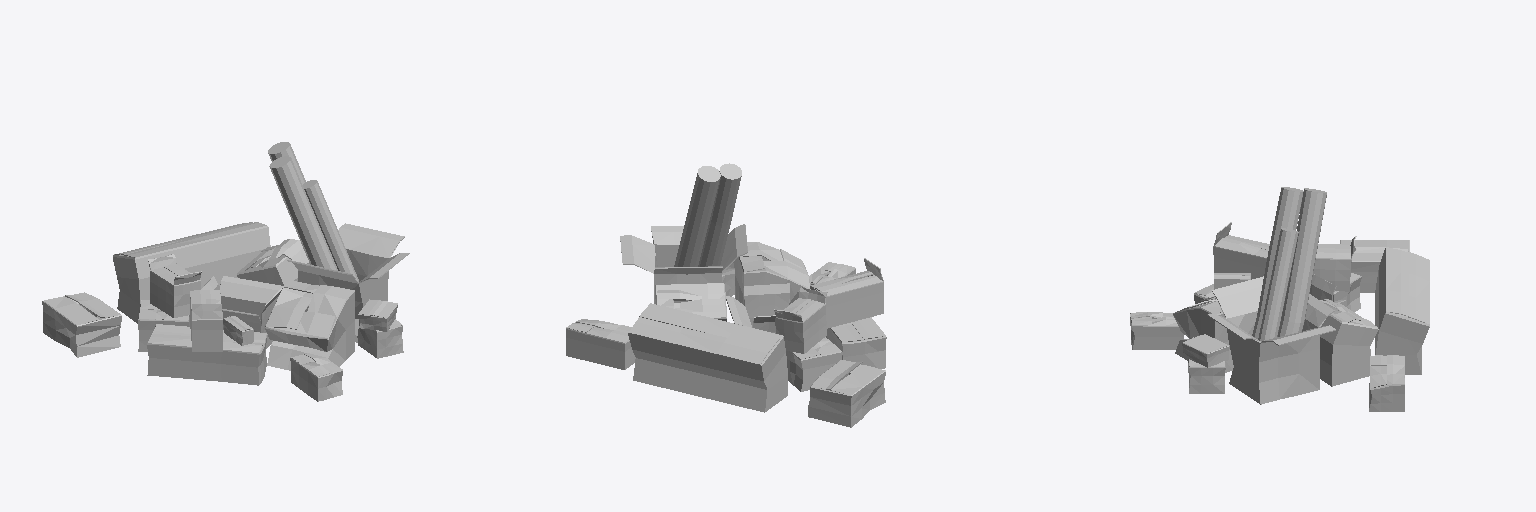
Rendered from old-paper.obj.
The picture shows the model from 3 angles: view 1: azimuth 30°, elevation 25°; view 2: azimuth 150°, elevation 25°; view 3: azimuth 270°, elevation 25°; orthographic projection.
Visible parts, largest first — view 1: Cardboard.010_low_Cylinder.030; view 2: Cardboard.010_low_Cylinder.030; view 3: Cardboard.010_low_Cylinder.030.
Part boxes in pixels (x1,y1,x2,y2): Cardboard.010_low_Cylinder.030: (42,142,409,401); Cardboard.010_low_Cylinder.030: (566,163,886,427); Cardboard.010_low_Cylinder.030: (1130,187,1429,411).
Size of the model in its own units: 1.37 by 0.7833 by 1.2.